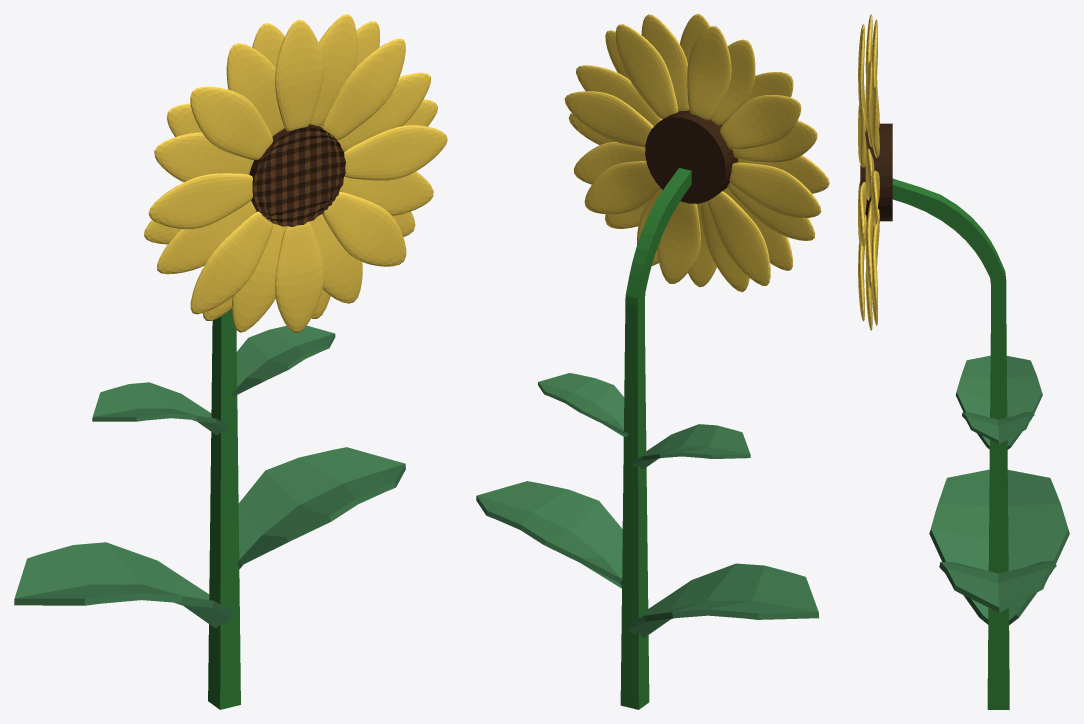
File: SUNFLOWER.fbx
The picture shows the model from 3 angles, left to right: view 1: azimuth 30°, elevation 25°; view 2: azimuth 150°, elevation 25°; view 3: azimuth 270°, elevation 25°; orthographic projection. The views are drawn at different scales.
Visible parts, largest first — view 1: Cube.073; view 2: Cube.073; view 3: Cube.073.
Boxes of the visible parts, x1=… form: Cube.073: x1=14, y1=14, x2=447, y2=709; Cube.073: x1=476, y1=14, x2=829, y2=709; Cube.073: x1=858, y1=14, x2=1069, y2=709.
Size of the model in its own units: 439 by 789 by 224.
